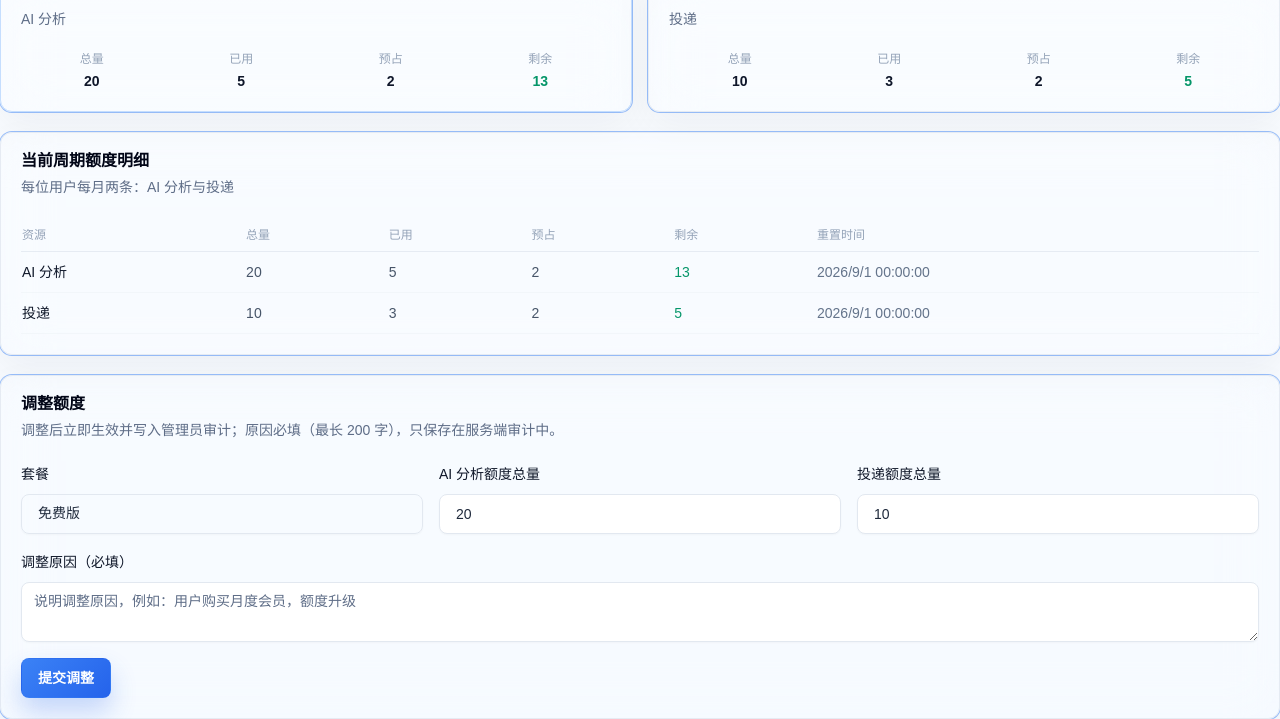
Test case: 基础后台页面 › 用户详情调额 PUT 携带 Idempotency-Key 且不渲染敏感字段
(page scrolled)
Replace the text in the number field labelled "AI 分析额度总量" with "100" at (640, 514), box [439,494,841,534]
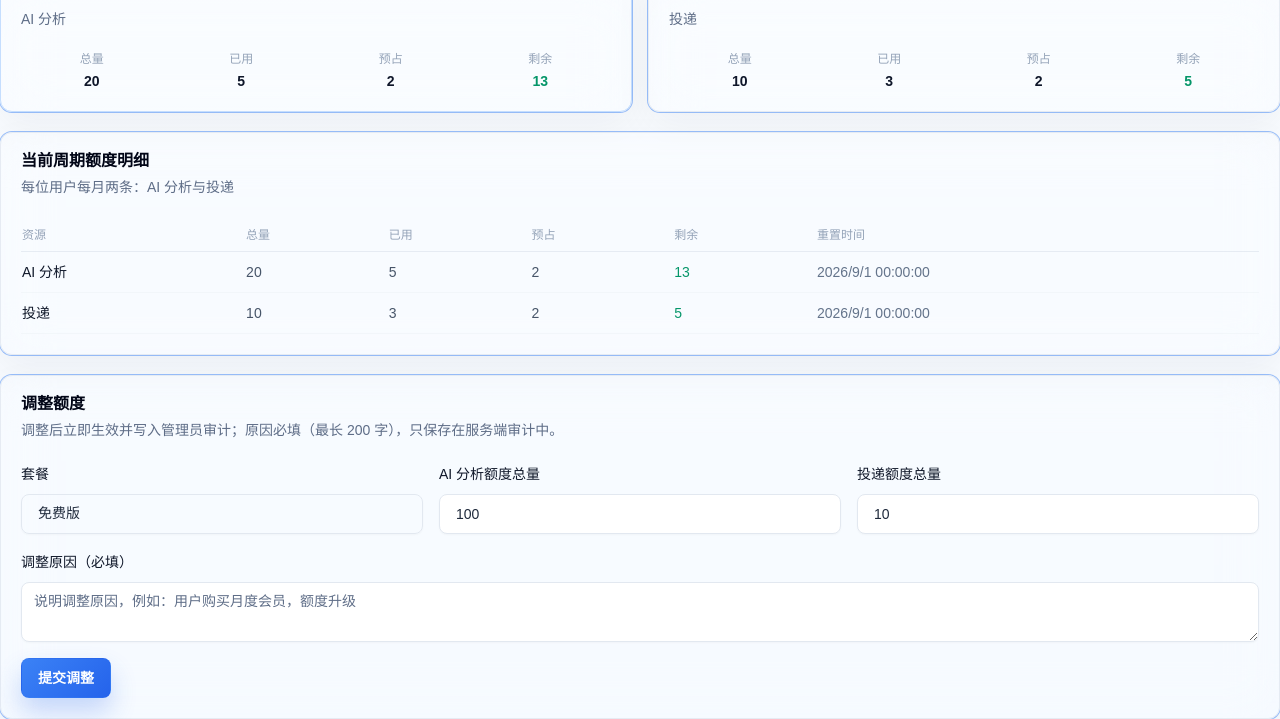
Replace the text in the number field labelled "投递额度总量" with "50" at (1058, 514), box [857,494,1259,534]
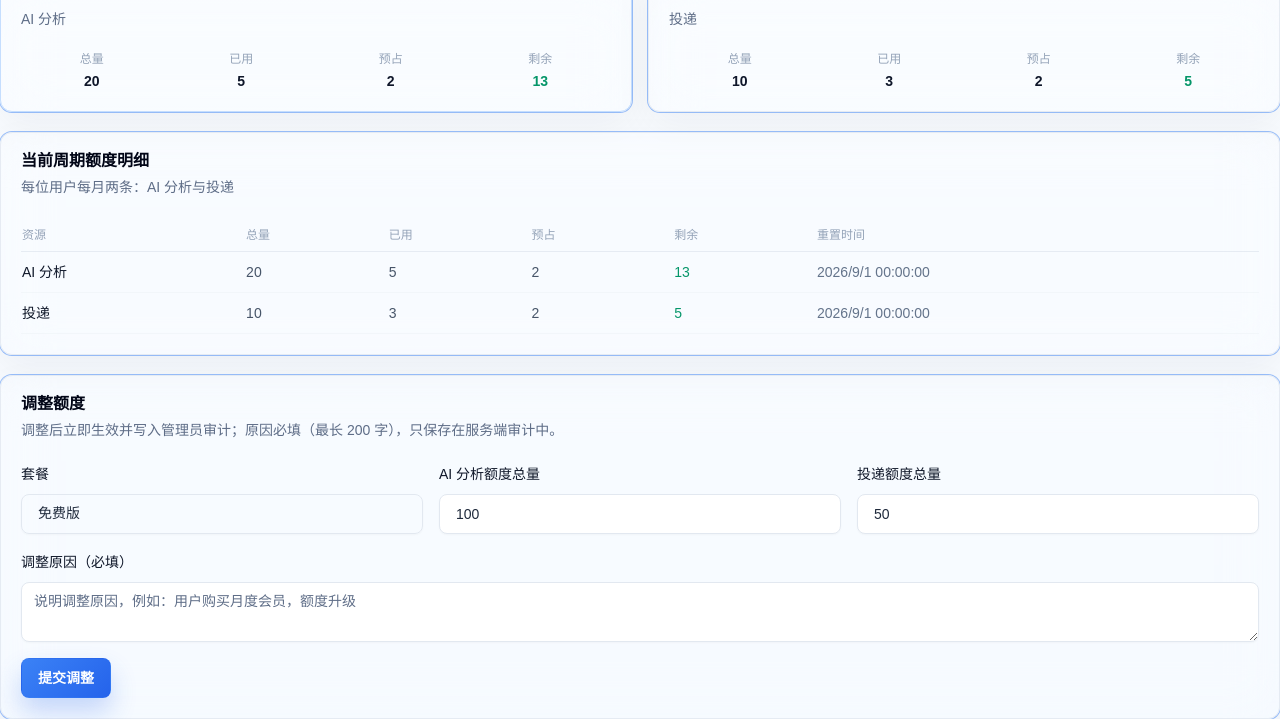
Type "运营调整" into the text box labelled "调整原因（必填）" at (640, 612), box [21,582,1259,642]
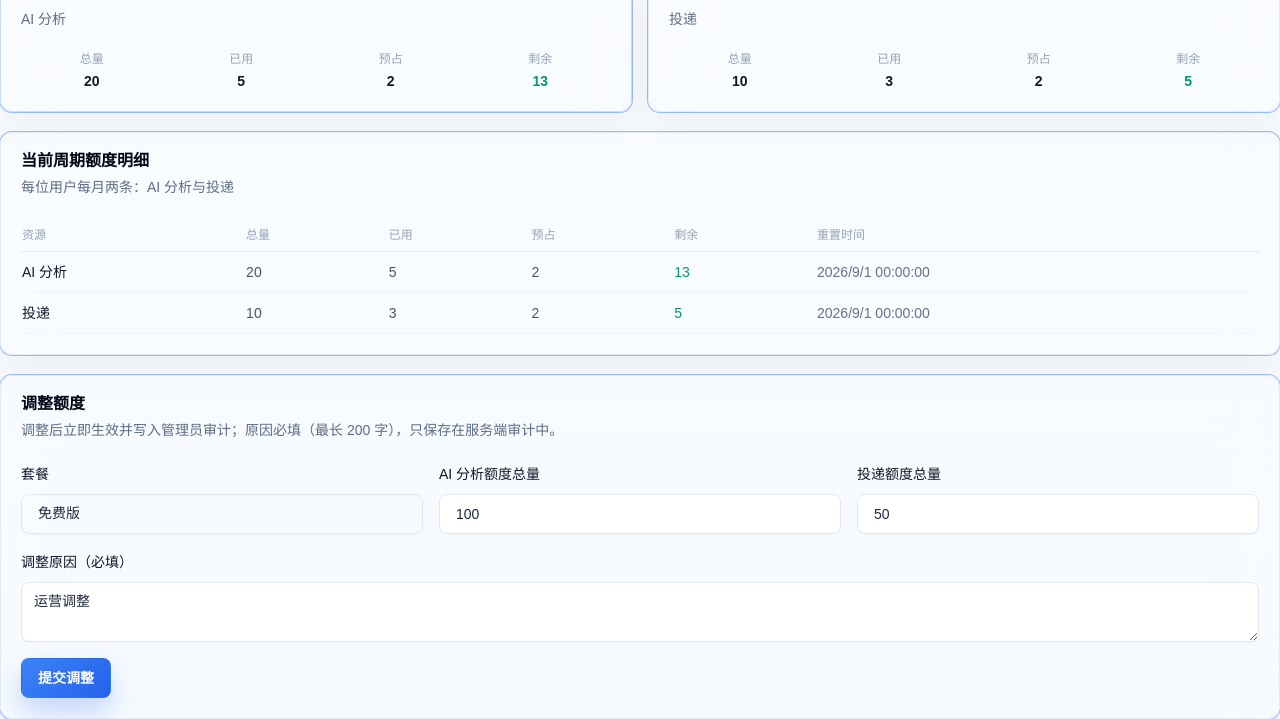
Click the button "提交调整" at (66, 678), box [21,658,111,698]
(page scrolled)
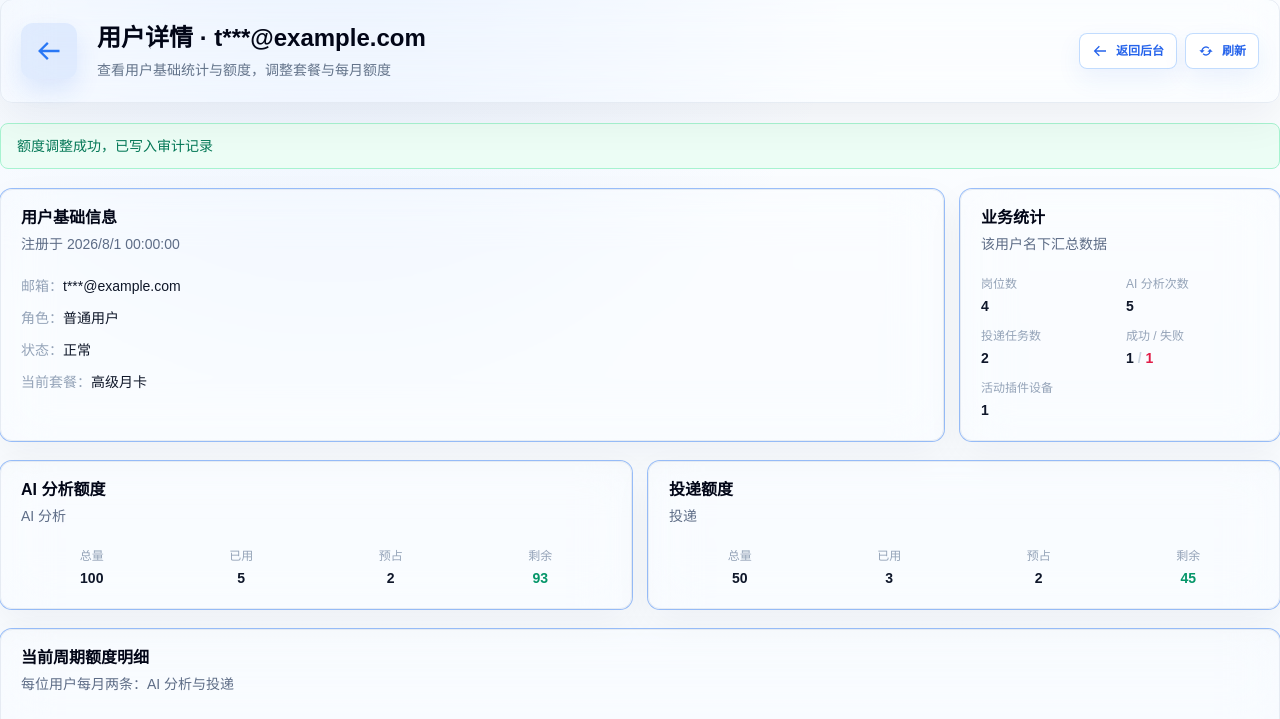
Result: the text "额度调整成功，已写入审计记录" is shown at [0,123,1279,169]
